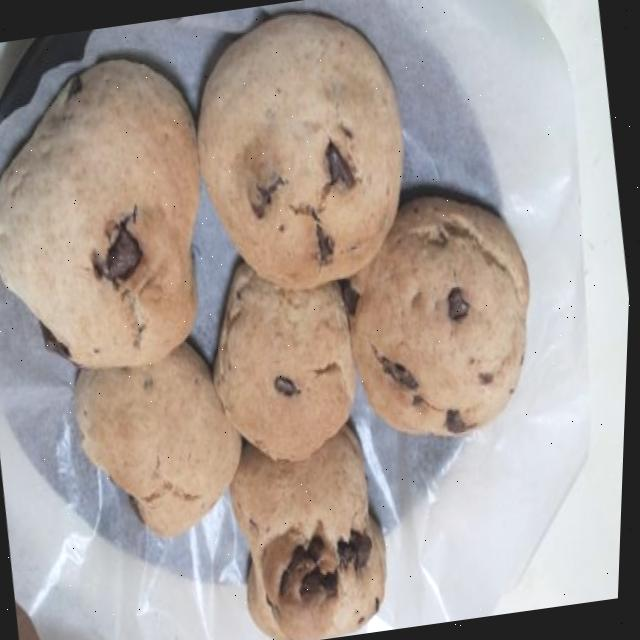面包点心: (0, 1, 605, 640)
